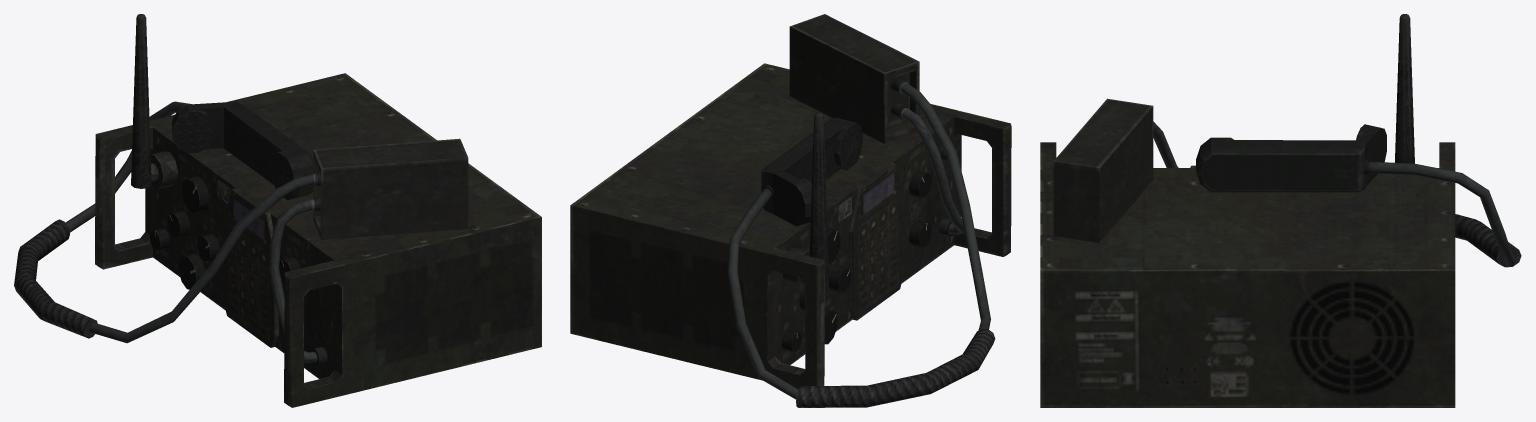
The model's file is ArVrRadio.FBX.
3 views of the same model, side by side, from view 1: azimuth 30°, elevation 25°; view 2: azimuth 150°, elevation 25°; view 3: azimuth 270°, elevation 25° (orthographic). The views are drawn at different scales.
Parts seen in each view (by area): view 1: ArVrRadio; view 2: ArVrRadio; view 3: ArVrRadio.
Part boxes in pixels (left/top/right/bottom): ArVrRadio: left=14, top=14, right=541, bottom=407; ArVrRadio: left=570, top=14, right=1011, bottom=407; ArVrRadio: left=1040, top=14, right=1521, bottom=407.
Bounding box in the file's own units: 0.7565 × 0.5239 × 0.8269.
